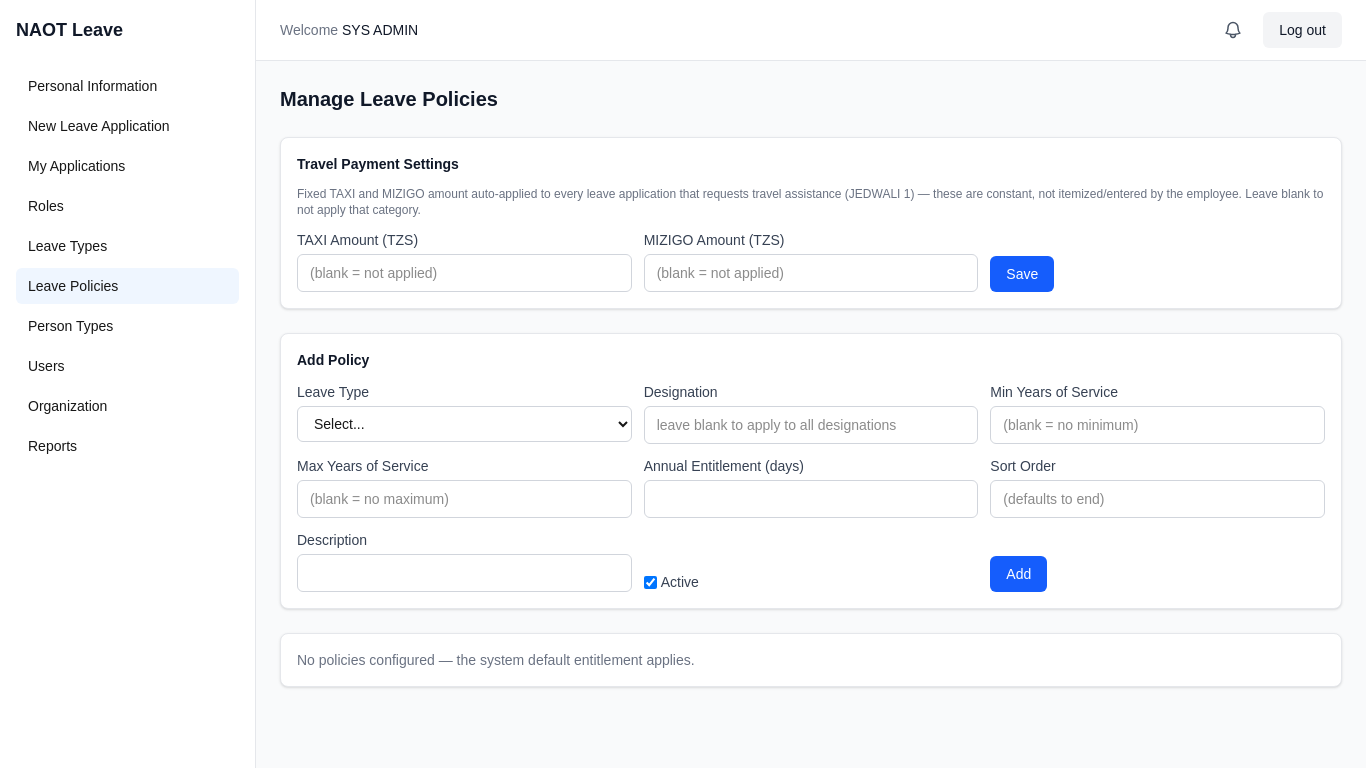
Test: AdminLeavePoliciesPage › shows a validation error when required fields are missing
The image size is (1366, 768).
Check: the text "No policies configured" is shown, box [297, 652, 695, 668]
Step 1. Click the button "Add" → click(1019, 574), box [990, 556, 1047, 592]
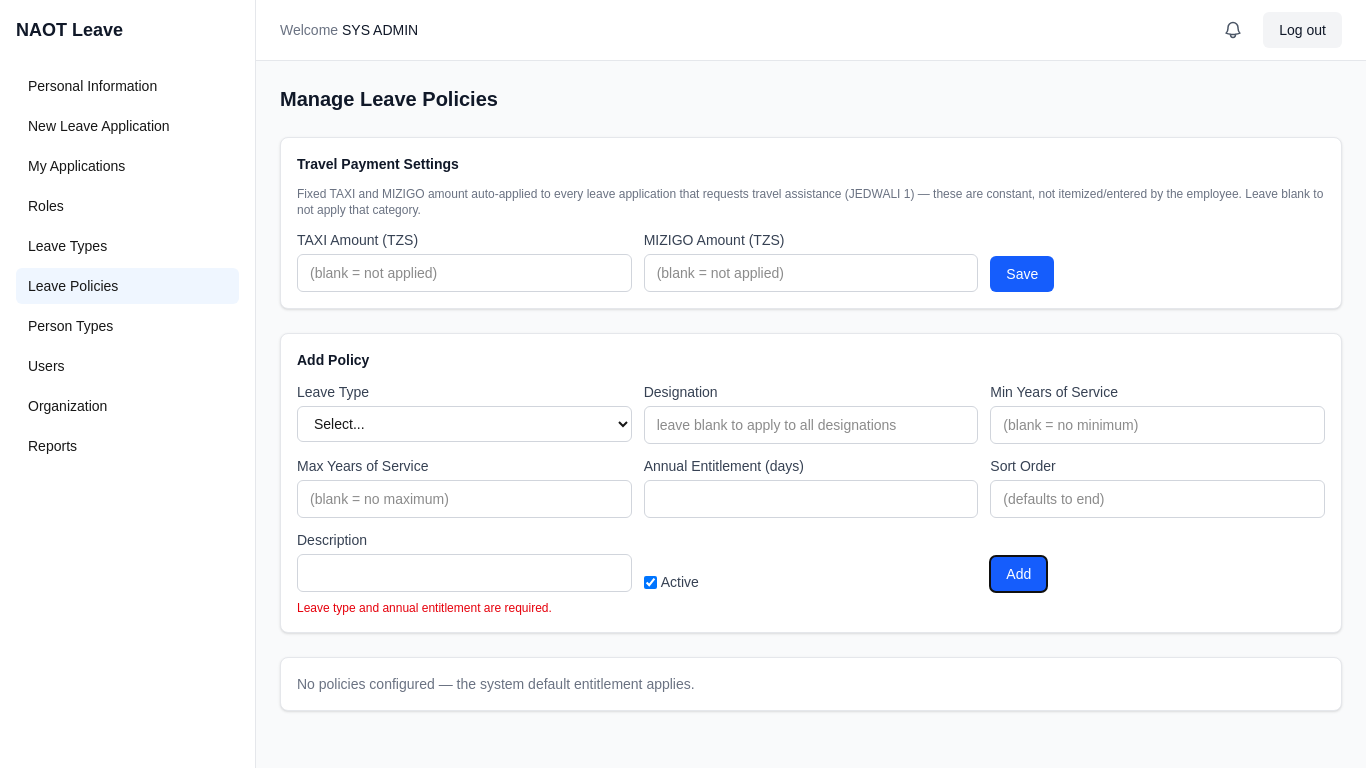
Check: the text "Leave type and annual entitlement are required." is shown, box [297, 601, 552, 615]
